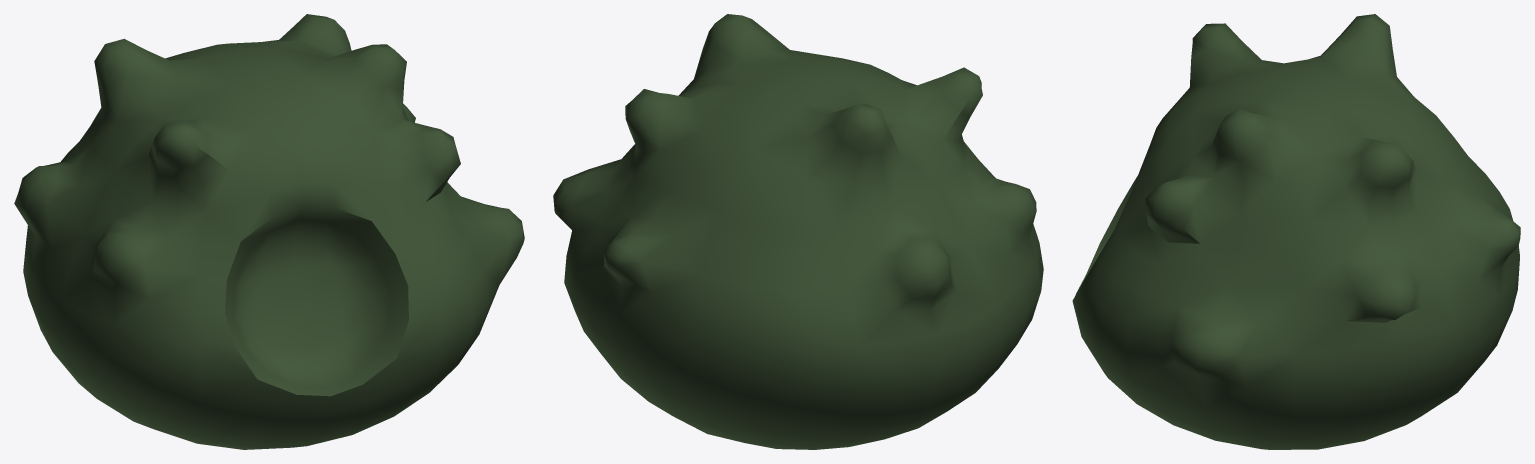
File: Green_Blob.fbx
The picture shows the model from 3 angles, left to right: view 1: azimuth 30°, elevation 25°; view 2: azimuth 150°, elevation 25°; view 3: azimuth 270°, elevation 25°; orthographic projection. The views are drawn at different scales.
Visible parts, largest first — view 1: Green_Blob; view 2: Green_Blob; view 3: Green_Blob.
Part boxes in pixels (x1,y1,x2,y2): Green_Blob: (14,14,524,449); Green_Blob: (553,14,1043,449); Green_Blob: (1072,14,1520,449).
Bounding box in the file's own units: 139 × 119 × 133.
